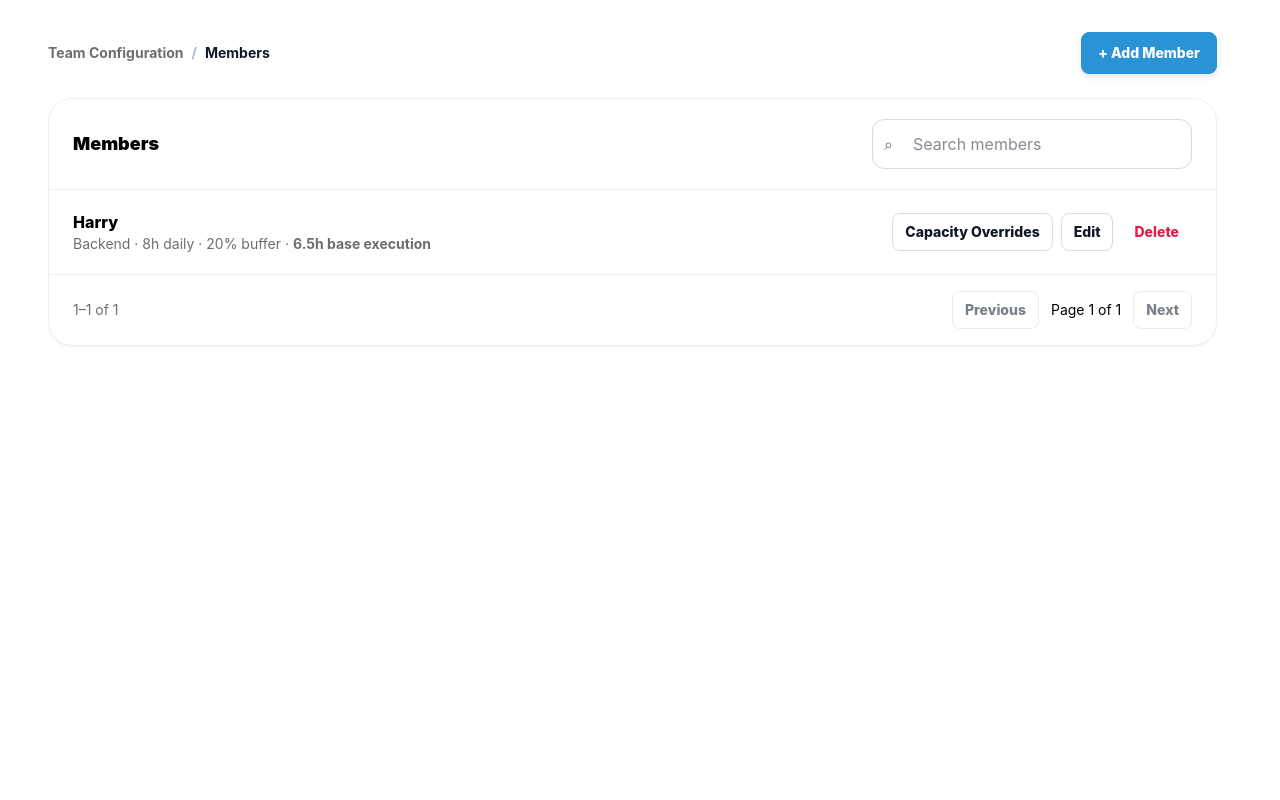
Test: TeamMembersDashboardPage › allows deleting a member whose child capacity overrides are cascaded by the backend
The width and height of the screenshot is (1280, 800).
expect the heading "Harry" is shown: met, box top-left (73, 212), bottom-right (118, 232)
Click the button "Delete". click: click(1157, 232)
box: top-left (1122, 213), bottom-right (1192, 251)
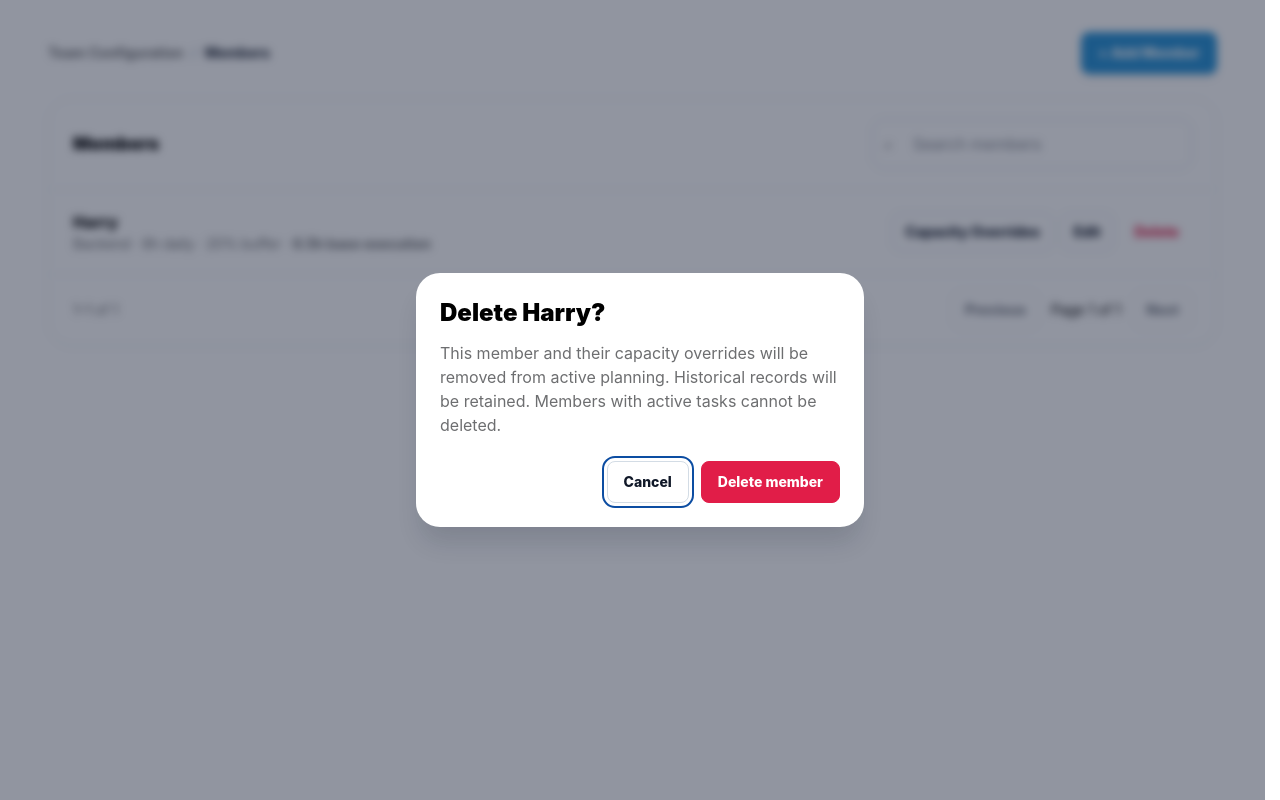
expect the text "capacity overrides will be removed from active planning" is shown: met, box top-left (440, 343), bottom-right (837, 435)
Click the button "Delete member". click: click(770, 482)
box: top-left (701, 461), bottom-right (840, 503)
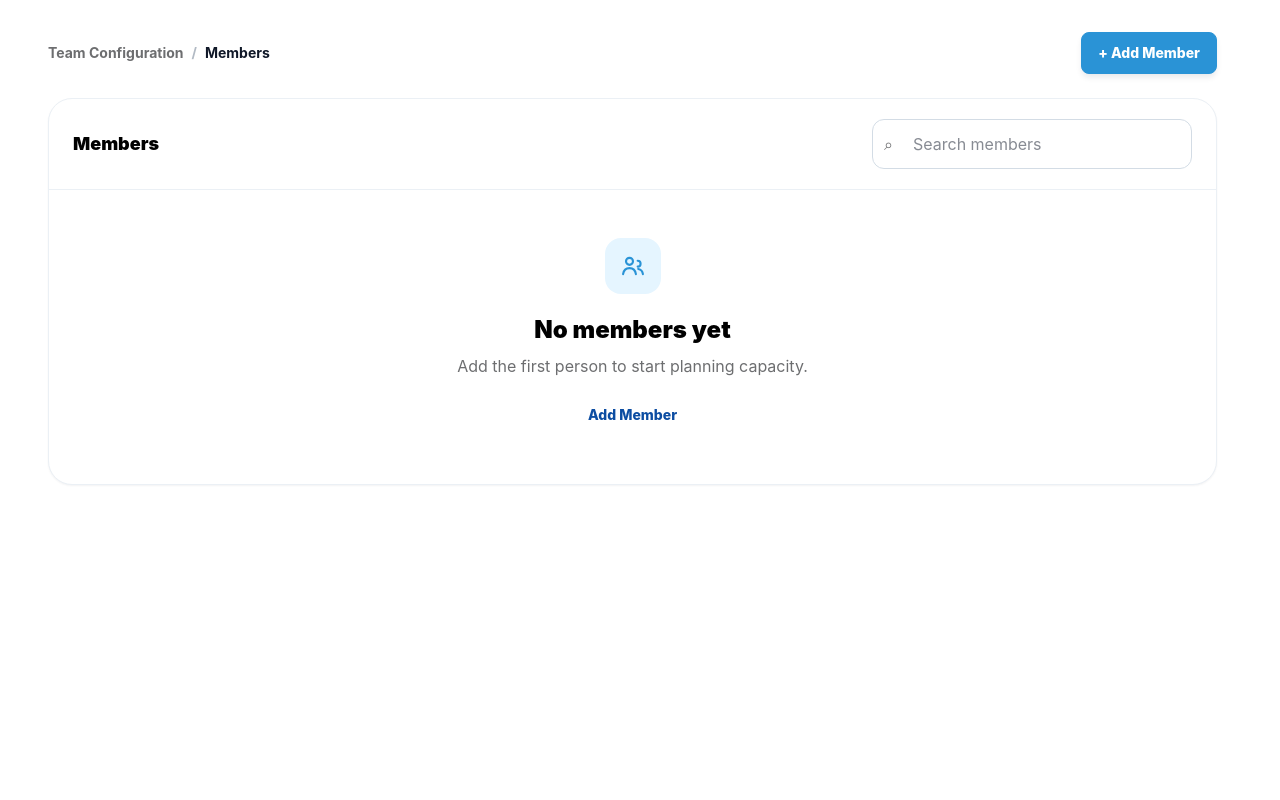
expect the heading "No members yet" is shown: met, box top-left (534, 315), bottom-right (731, 344)
